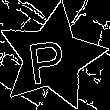P_N: (29, 30, 74, 85)
